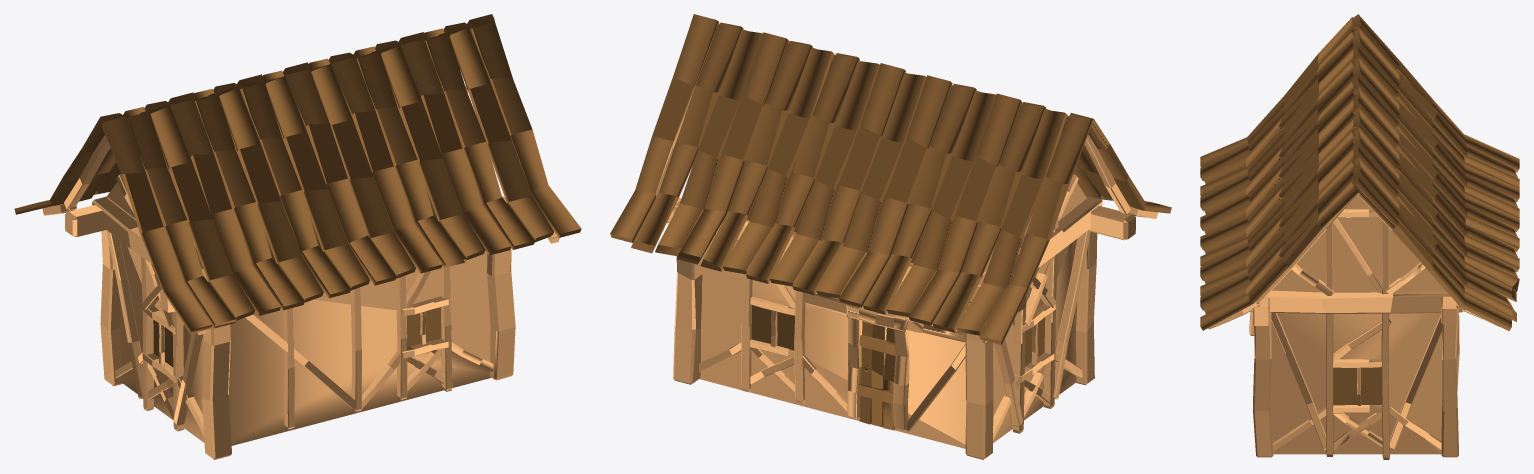
File: house.fbx
3 views of the same model, side by side, from view 1: azimuth 30°, elevation 25°; view 2: azimuth 150°, elevation 25°; view 3: azimuth 270°, elevation 25° (orthographic). The views are drawn at different scales.
Visible parts, largest first — view 1: Roof, House_Frame, House, Windows; view 2: Roof, House_Frame, House, Door, Windows; view 3: Roof, House, House_Frame, Windows.
Boxes of the visible parts, box(x1,y1,x2,y2) form: Roof: box(14, 14, 581, 333); House_Frame: box(42, 86, 559, 459); House: box(107, 149, 491, 445); Windows: box(153, 307, 441, 367); Roof: box(610, 14, 1171, 344); House_Frame: box(655, 39, 1158, 459); House: box(699, 183, 1086, 448); Door: box(858, 321, 895, 430); Windows: box(751, 305, 1045, 366); Roof: box(1200, 14, 1519, 330); House: box(1270, 194, 1445, 454); House_Frame: box(1208, 193, 1499, 459); Windows: box(1333, 367, 1381, 405).
Size of the model in its own units: 42.02 by 32.77 by 31.89.
